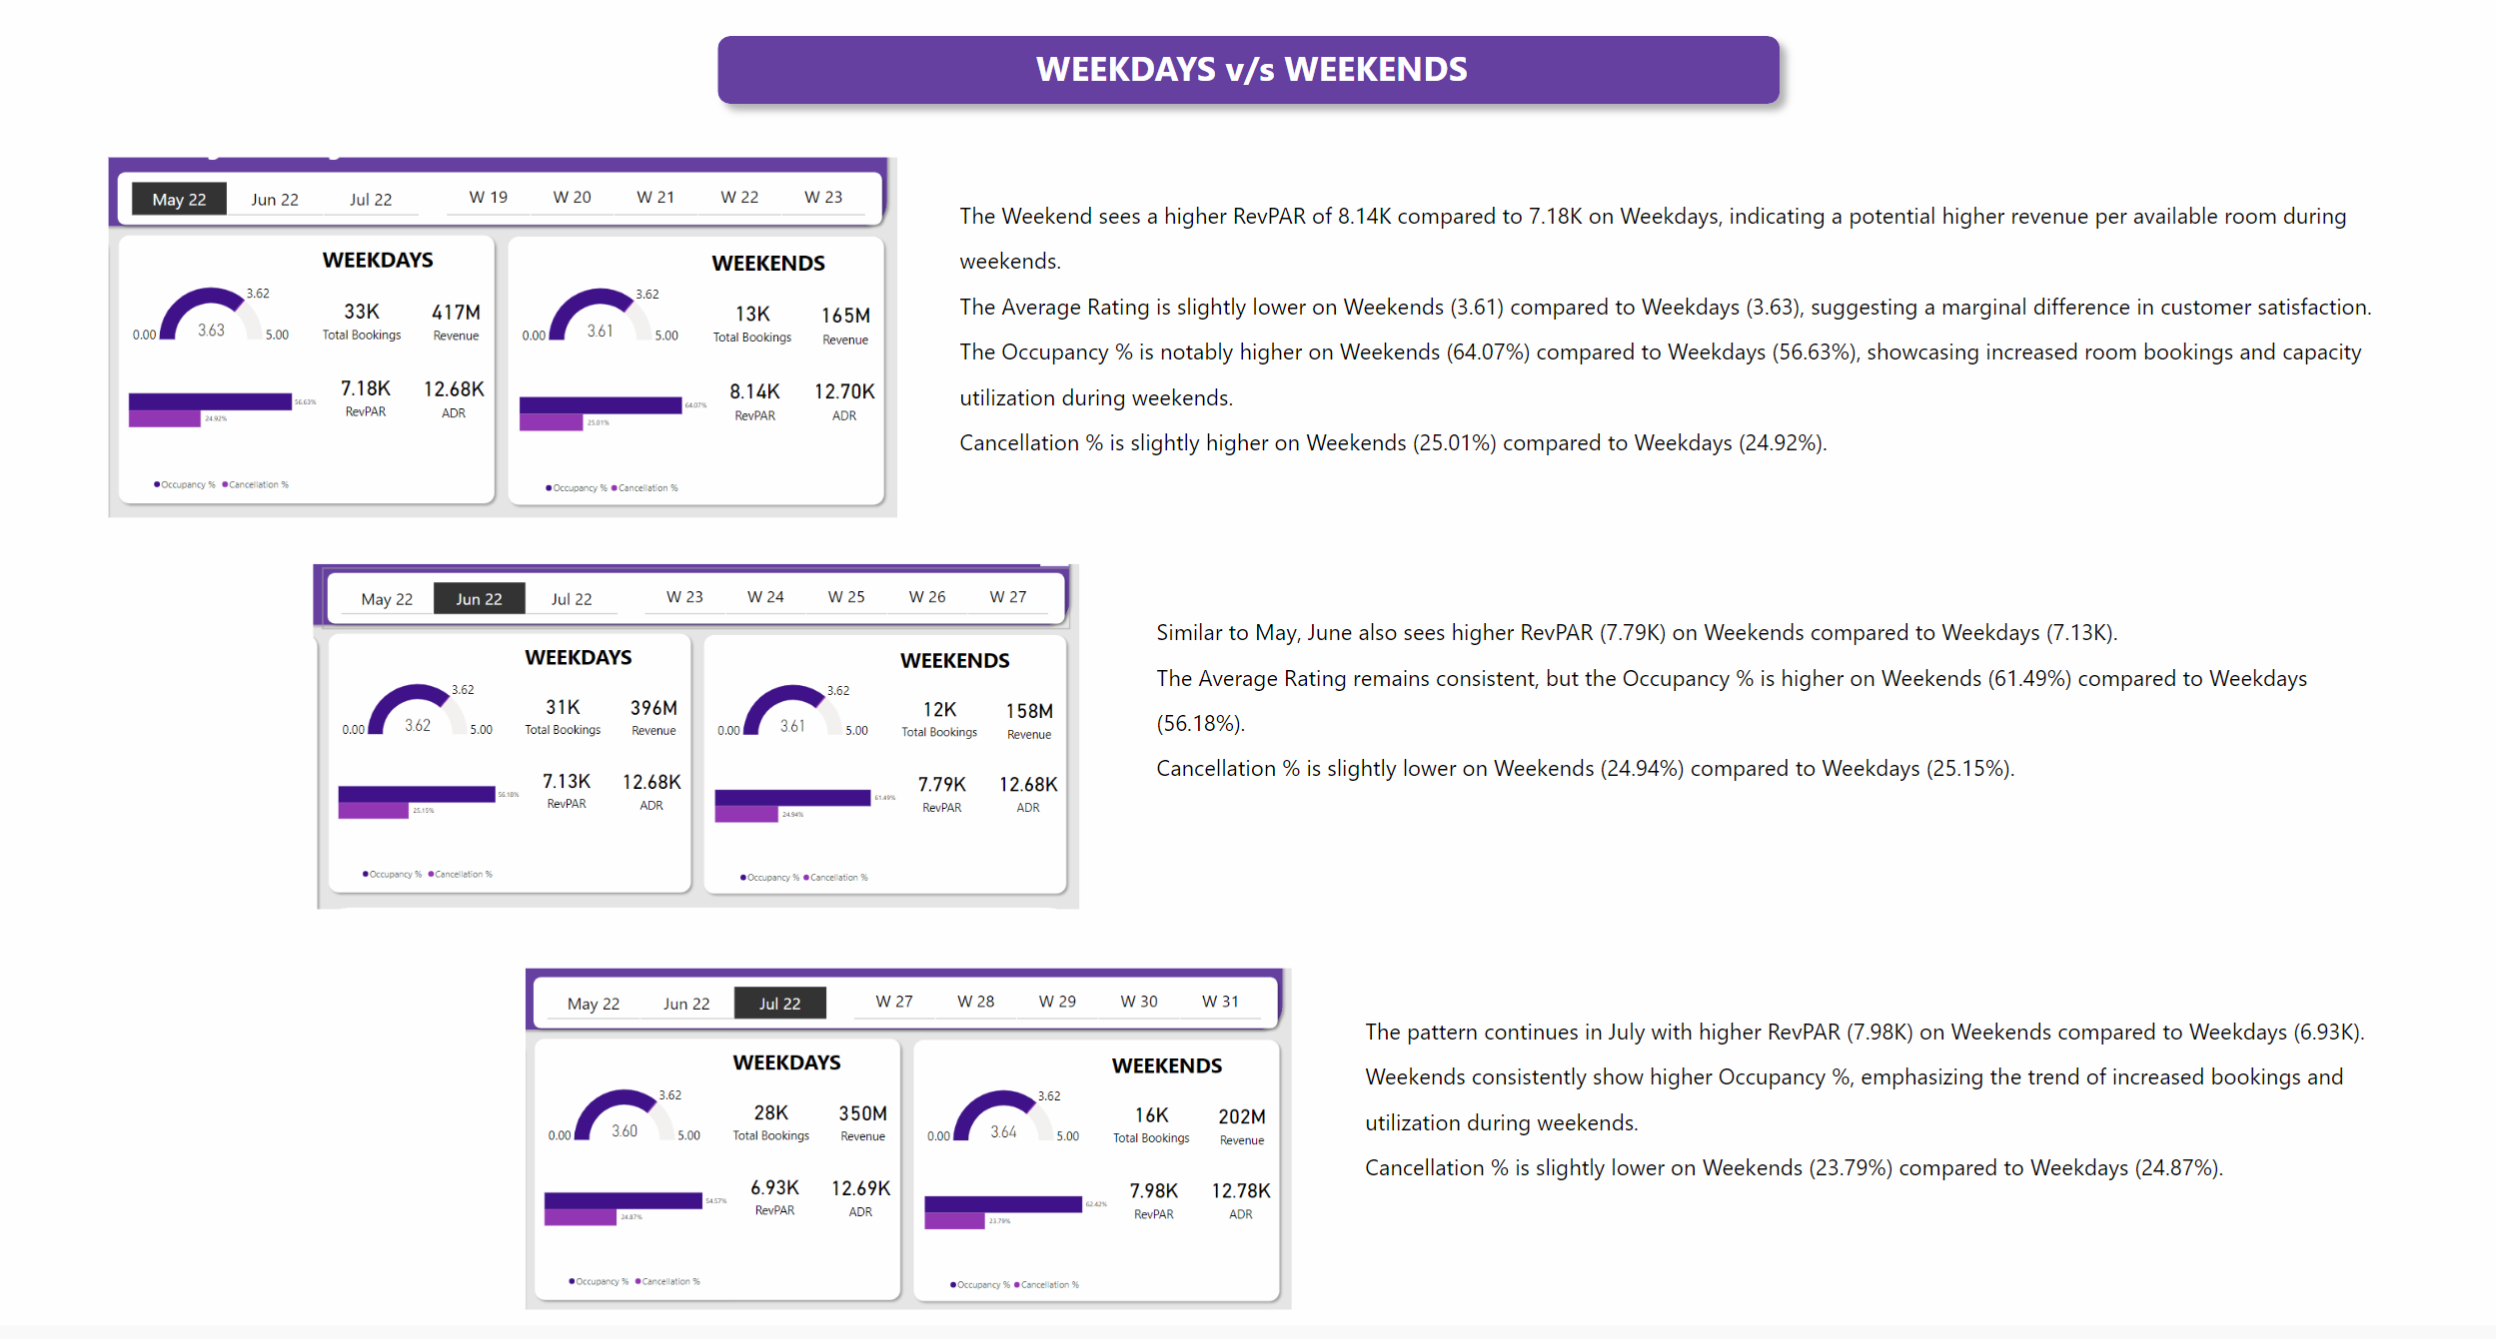

What the dashboard file says about the page in this screenshot:
{"tool":"powerbi","page":{"name":"WEEKDAYS v/s WEEKENDS","canvas":[1280,720],"ordinal":5},"visuals":[{"type":"image","box":[15.8,81.7,440.5,205.4],"z":0},{"type":"image","box":[128.2,298.3,425.6,205.4],"z":1000},{"type":"image","box":[243.5,519.4,425.6,198.9],"z":2000},{"type":"textbox","box":[585.5,323.1,665.9,117.1],"z":3000},{"type":"textbox","box":[698.4,539.4,567.6,122.2],"z":3001},{"type":"textbox","box":[478.7,97.4,787.2,175.2],"z":3002},{"type":"shape","box":[343.9,12.1,593.8,54.8],"z":3003},{"type":"textbox","box":[388.5,20.4,506.5,40],"z":3004}]}

Visuals, with their boxes on the page's 1280x720 design canvas (x1, y1, x2, y2). These are canvas units, not pixel positions in the 2496x1339 screenshot, which may show the page scaled, cropped or inside an application window:
image: crop(16, 82, 456, 287)
image: crop(128, 298, 554, 504)
image: crop(244, 519, 669, 718)
textbox: crop(586, 323, 1251, 440)
textbox: crop(698, 539, 1266, 662)
textbox: crop(479, 97, 1266, 273)
shape: crop(344, 12, 938, 67)
textbox: crop(388, 20, 895, 60)
